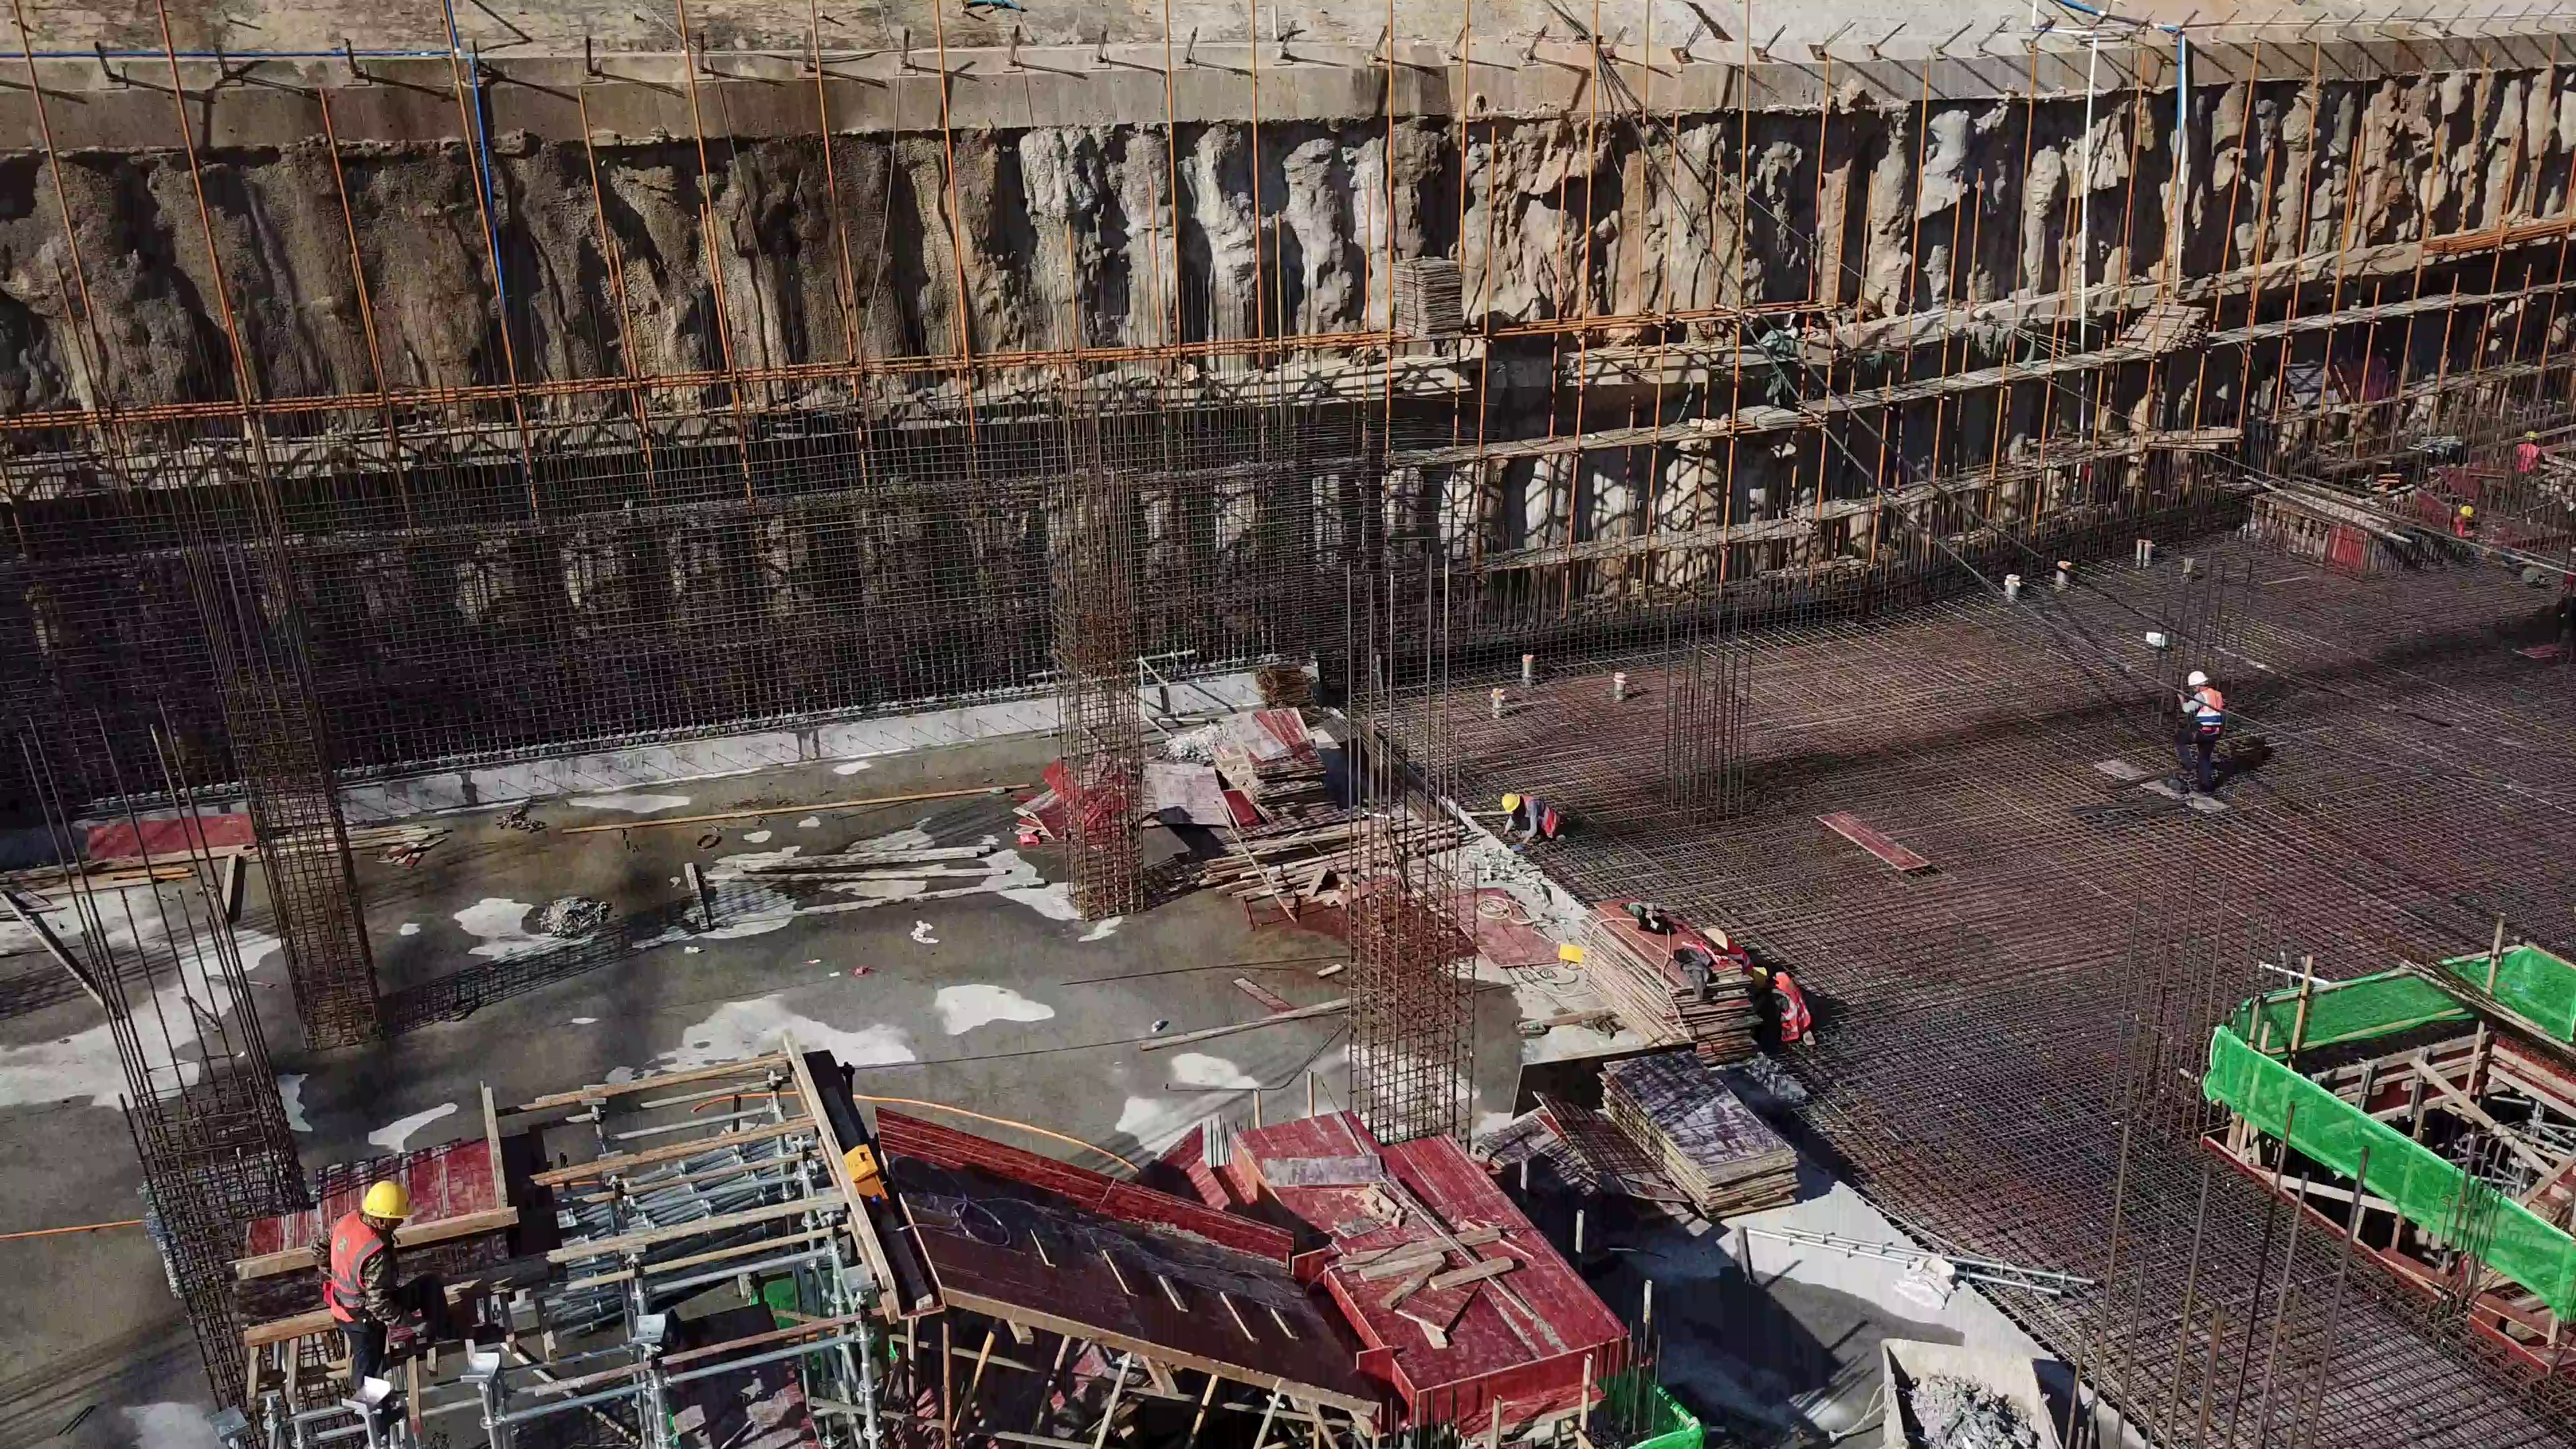board: (1591, 1044, 1807, 1210), (1568, 892, 1748, 1054), (1214, 696, 1347, 836)
helmet: (355, 1178, 408, 1218), (1499, 788, 1521, 813), (2185, 667, 2210, 688)
person: (299, 1174, 433, 1365), (2169, 663, 2229, 795), (1493, 784, 1577, 850), (2510, 426, 2549, 497)
vest: (323, 1218, 392, 1324), (1768, 970, 1815, 1043), (1521, 792, 1560, 840), (2189, 689, 2223, 731), (2514, 443, 2542, 472)
